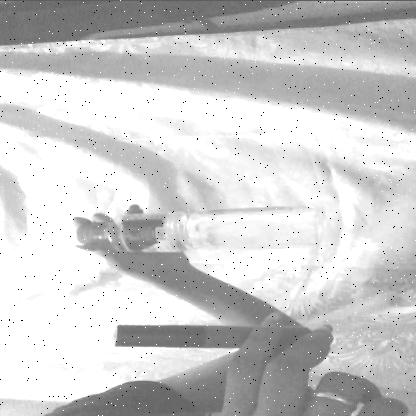Plastic Bottle: (40, 174, 394, 268)
